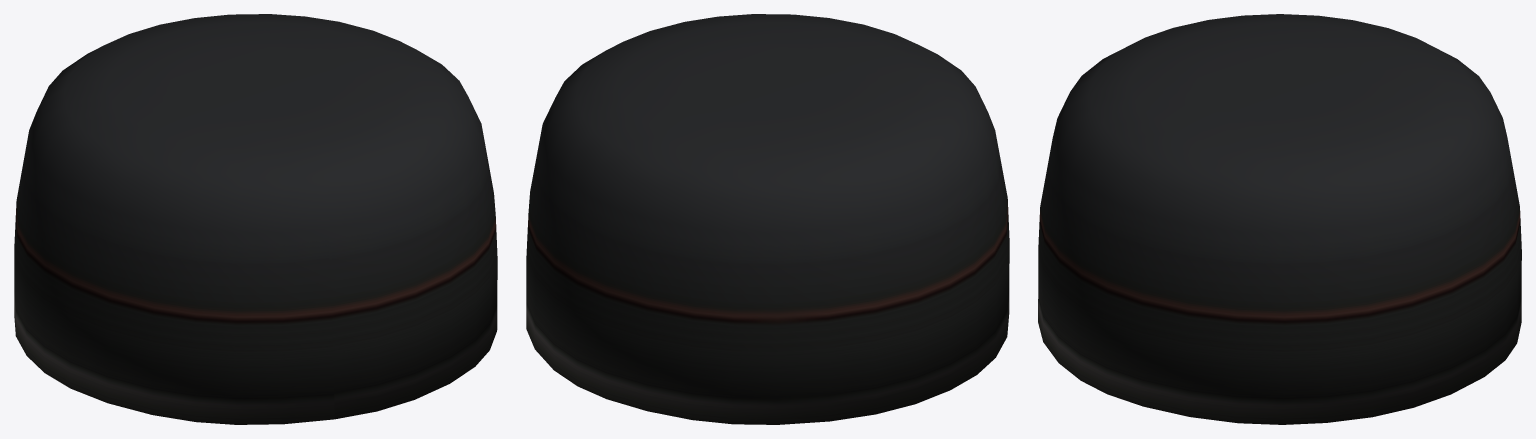
Rendered from laser.dae.
3 views of the same model, side by side, from view 1: azimuth 30°, elevation 25°; view 2: azimuth 150°, elevation 25°; view 3: azimuth 270°, elevation 25° (orthographic).
Visible parts, largest first — view 1: Laser_low; view 2: Laser_low; view 3: Laser_low.
Boxes of the visible parts, left/top/right/bottom form: Laser_low: left=14, top=14, right=497, bottom=424; Laser_low: left=526, top=14, right=1009, bottom=424; Laser_low: left=1038, top=14, right=1521, bottom=424.
Bounding box in the file's own units: 0.0746 × 0.0744 × 0.0408.
1 material, 1 textured.
